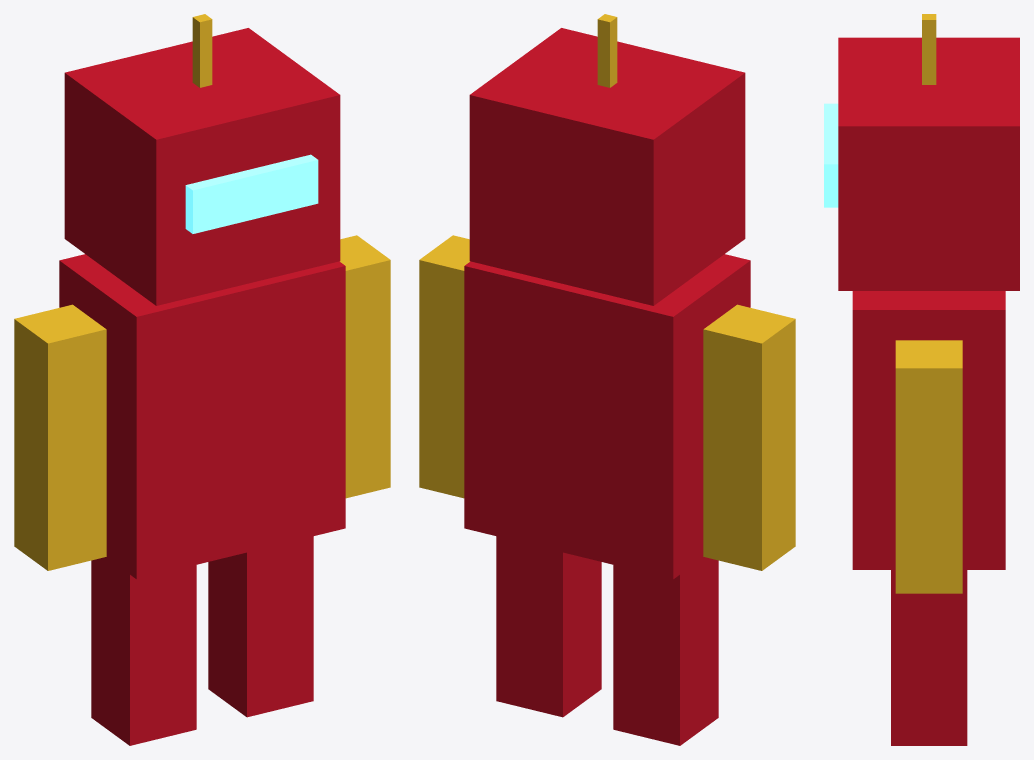
Rendered from ironbot.glb.
3 renders of one model, left to right at view 1: azimuth 30°, elevation 25°; view 2: azimuth 150°, elevation 25°; view 3: azimuth 270°, elevation 25°, orthographic.
Parts seen in each view (by area): view 1: body, head, arm-l, leg-l, leg-r, arm-r, visor, antenna; view 2: body, head, arm-l, leg-l, leg-r, arm-r, antenna; view 3: head, body, arm-r, leg-r, visor, antenna.
Boxes of the visible parts, left/top/right/bottom form: body: left=59, top=254, right=345, bottom=579; head: left=64, top=28, right=340, bottom=305; arm-l: left=14, top=304, right=106, bottom=570; leg-l: left=91, top=557, right=196, bottom=745; leg-r: left=208, top=536, right=313, bottom=717; arm-r: left=340, top=235, right=390, bottom=498; visor: left=185, top=154, right=318, bottom=233; antenna: left=192, top=14, right=212, bottom=87; body: left=464, top=254, right=750, bottom=579; head: left=469, top=28, right=745, bottom=305; arm-l: left=703, top=304, right=795, bottom=570; leg-l: left=613, top=557, right=718, bottom=745; leg-r: left=496, top=536, right=601, bottom=717; arm-r: left=419, top=235, right=469, bottom=498; antenna: left=597, top=14, right=617, bottom=87; head: left=838, top=37, right=1019, bottom=290; body: left=852, top=291, right=1005, bottom=569; arm-r: left=895, top=340, right=962, bottom=593; leg-r: left=891, top=570, right=967, bottom=745; visor: left=824, top=103, right=838, bottom=207; antenna: left=922, top=14, right=936, bottom=84.
Bounding box in the file's own units: 0.82 × 1.58 × 0.41.
